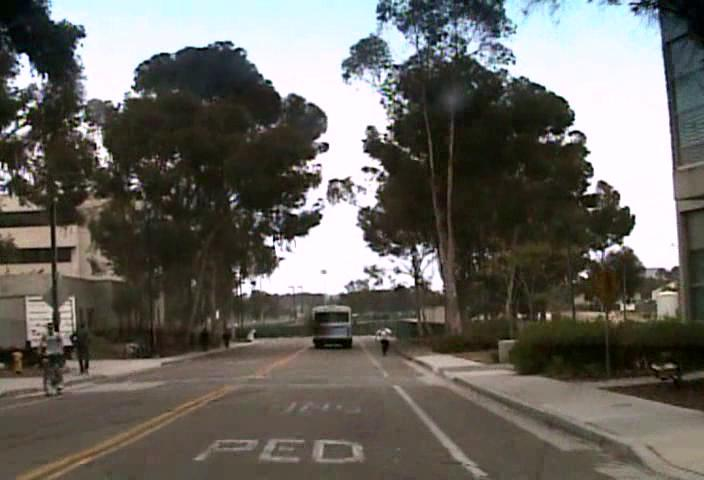pedestrianCrossing: (588, 260, 624, 310)
